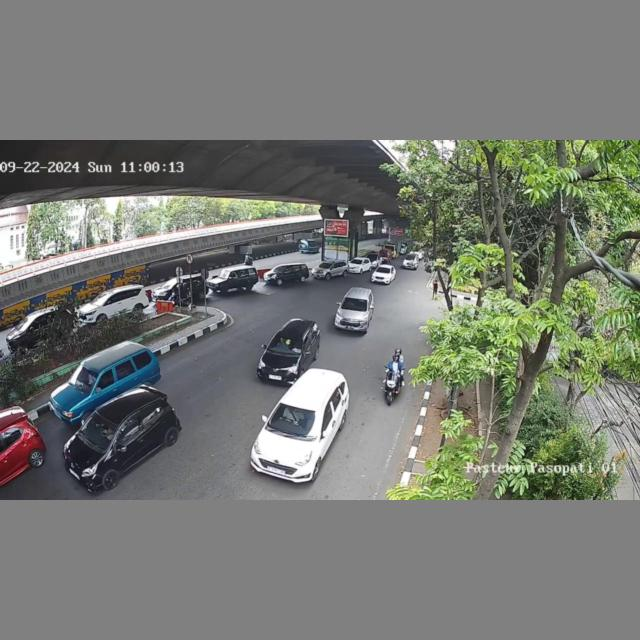windshield: (269, 403, 321, 436), (79, 412, 119, 446), (68, 365, 99, 389), (267, 335, 304, 353), (340, 297, 368, 311), (377, 267, 391, 273)
